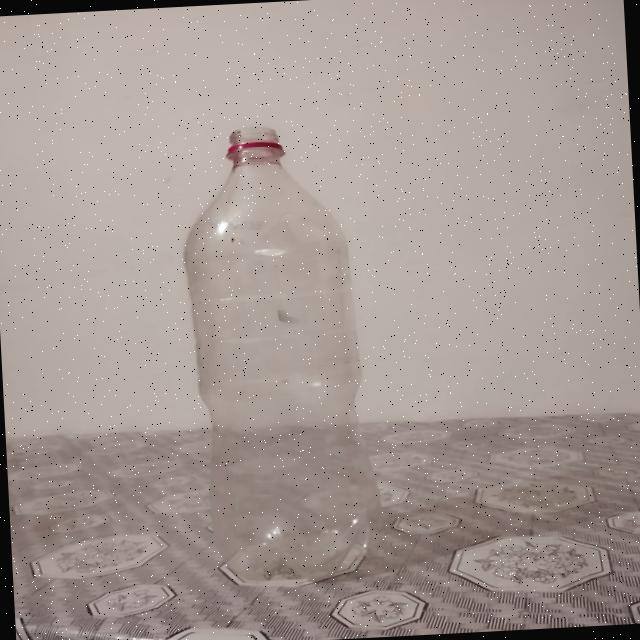bottle: (176, 112, 390, 596)
